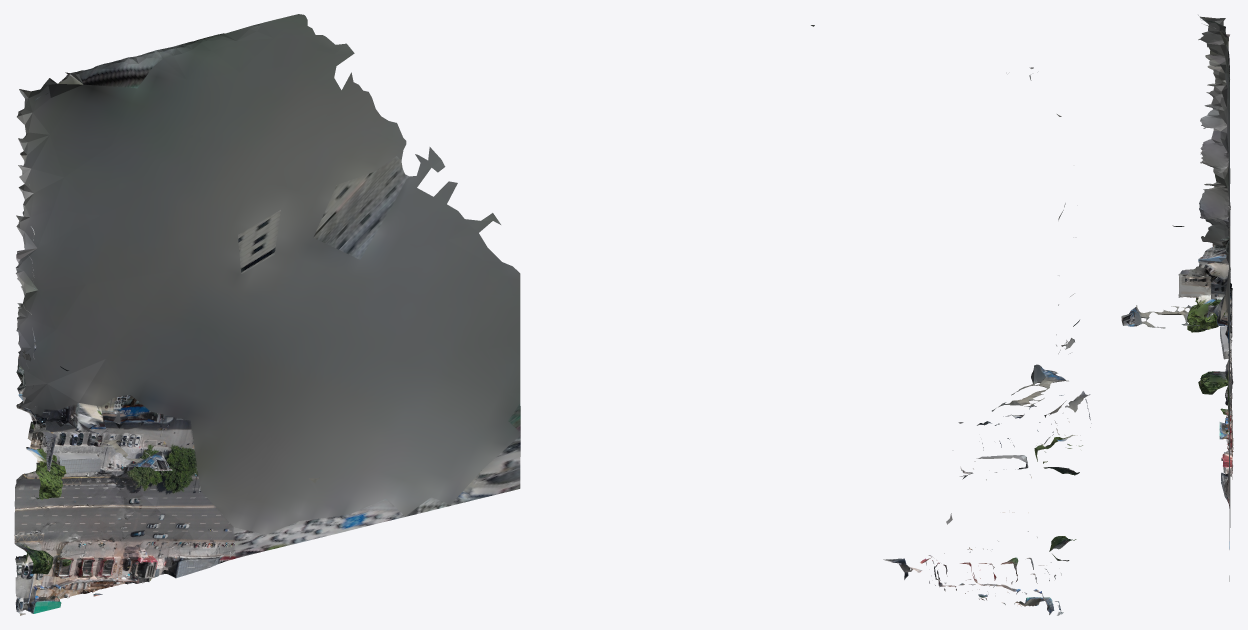
File: Tile_+003_+003.glb
3 renders of one model, left to right at view 1: azimuth 30°, elevation 25°; view 2: azimuth 150°, elevation 25°; view 3: azimuth 270°, elevation 25°, orthographic. The views are drawn at different scales.
Visible parts, largest first — view 1: Node; view 2: Node; view 3: Node.
Boxes of the visible parts, box(x1,y1,x2,y2) form: Node: box(14, 14, 520, 615); Node: box(811, 25, 1091, 615); Node: box(1121, 15, 1233, 581).
Size of the model in its own units: 200 by 200 by 49.72.
Materials: 1 (1 with a texture image).
